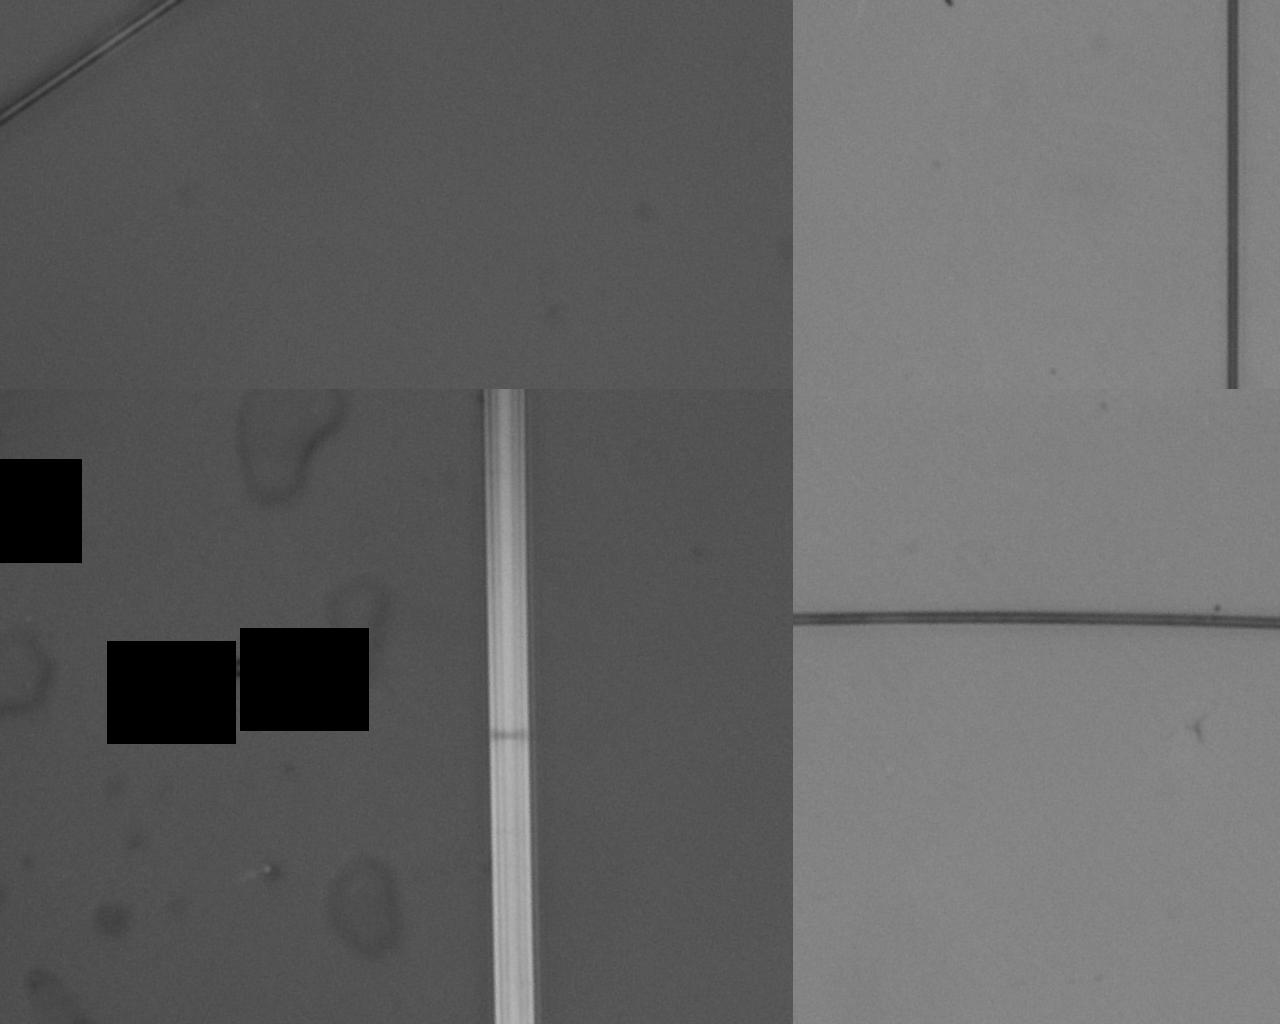fiber: (601, 586, 1228, 1024), (601, 0, 1280, 216), (0, 386, 601, 471)
